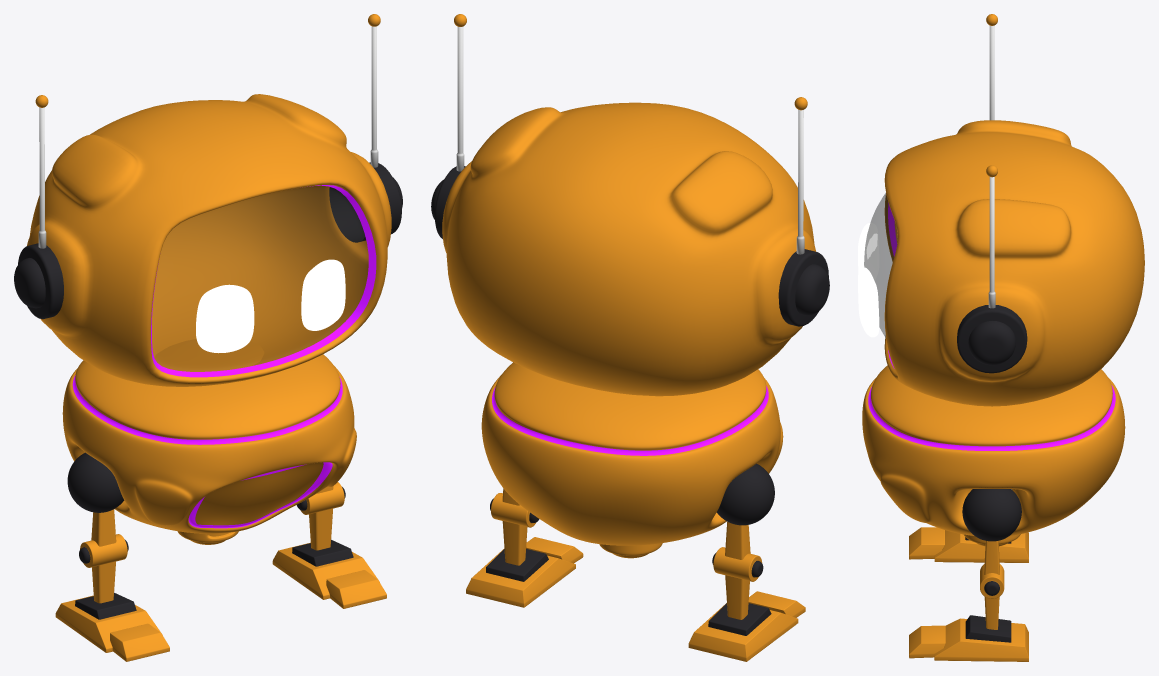
Rendered from robot4.glb.
3 views of the same model, side by side, from view 1: azimuth 30°, elevation 25°; view 2: azimuth 150°, elevation 25°; view 3: azimuth 270°, elevation 25° (orthographic). The views are drawn at different scales.
Visible parts, largest first — view 1: 立方体, 立方体.001, 平面, 球体.001, 立方体.010, 立方体.005, 柱体, 柱体.007, 立方体.006, 立方体.011, 柱体.008, 柱体.006 (+8 smaller); view 2: 立方体, 立方体.001, 立方体.010, 立方体.005, 球体.001, 柱体.007, 柱体.008, 立方体.004, 柱体.006, 立方体.009, 柱体.002, 立方体.008 (+8 smaller); view 3: 立方体, 立方体.001, 球体, 立方体.005, 柱体, 平面, 立方体.010, 柱体.001, 立方体.006, 立方体.011, 立方体.004, 柱体.002 (+4 smaller).
Boxes of the visible parts, bbox=[...] form: 立方体: bbox=[27, 94, 391, 386]; 立方体.001: bbox=[62, 339, 356, 533]; 平面: bbox=[196, 259, 345, 353]; 球体.001: bbox=[67, 452, 124, 512]; 立方体.010: bbox=[55, 595, 162, 652]; 立方体.005: bbox=[272, 542, 379, 599]; 柱体: bbox=[329, 162, 401, 242]; 柱体.007: bbox=[18, 243, 63, 319]; 立方体.006: bbox=[326, 570, 386, 608]; 立方体.011: bbox=[110, 623, 169, 661]; 柱体.008: bbox=[14, 258, 45, 308]; 柱体.006: bbox=[79, 534, 128, 567]; 立方体: bbox=[442, 102, 815, 396]; 立方体.001: bbox=[481, 362, 783, 545]; 立方体.010: bbox=[688, 603, 798, 661]; 立方体.005: bbox=[466, 549, 575, 607]; 球体.001: bbox=[716, 463, 774, 525]; 柱体.007: bbox=[778, 249, 828, 326]; 柱体.008: bbox=[795, 264, 829, 315]; 立方体.004: bbox=[486, 549, 548, 581]; 柱体.006: bbox=[712, 547, 763, 581]; 立方体.009: bbox=[708, 603, 771, 635]; 柱体.002: bbox=[456, 26, 464, 171]; 立方体.008: bbox=[725, 575, 749, 619]; 立方体: bbox=[864, 120, 1144, 406]; 立方体.001: bbox=[862, 365, 1125, 535]; 球体: bbox=[962, 489, 1021, 541]; 立方体.005: bbox=[934, 618, 1028, 661]; 柱体: bbox=[957, 305, 1027, 373]; 平面: bbox=[858, 223, 879, 337]; 立方体.010: bbox=[934, 530, 1028, 562]; 柱体.001: bbox=[968, 321, 1015, 365]; 立方体.006: bbox=[909, 625, 945, 658]; 立方体.011: bbox=[909, 527, 944, 559]; 立方体.004: bbox=[965, 615, 1011, 642]; 柱体.002: bbox=[988, 177, 995, 308].
Size of the model in its own units: 2.11 by 2.94 by 1.51.
